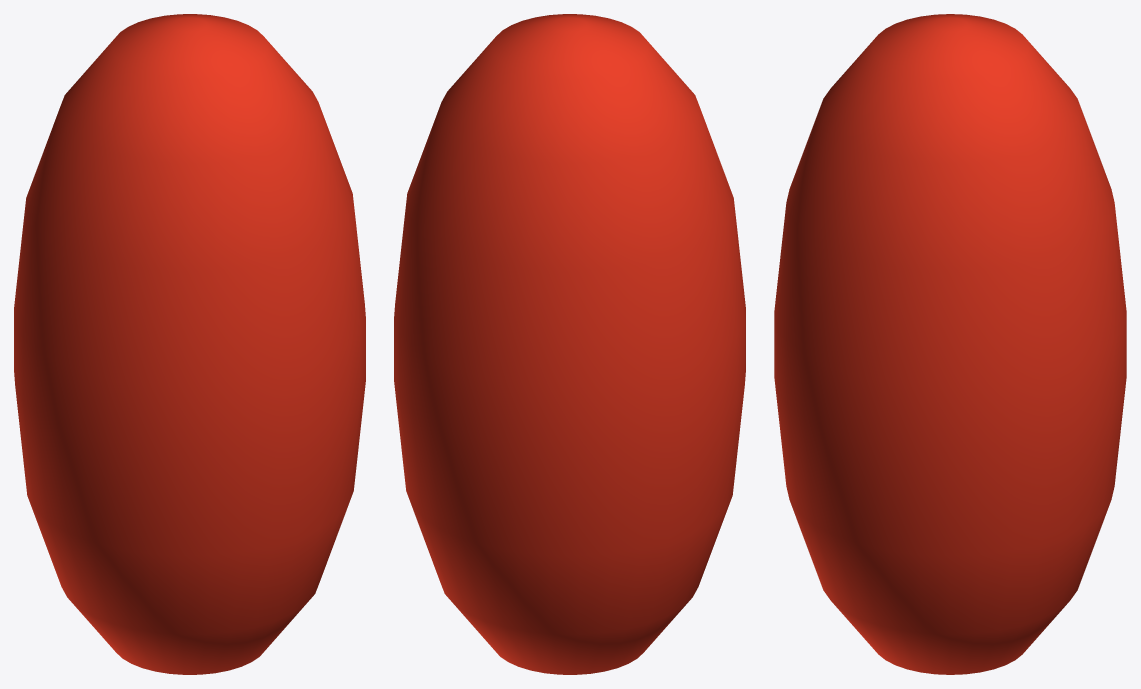
File: test_unit.glb
The picture shows the model from 3 angles, left to right: view 1: azimuth 30°, elevation 25°; view 2: azimuth 150°, elevation 25°; view 3: azimuth 270°, elevation 25°; orthographic projection.
Parts seen in each view (by area): view 1: Cylinder; view 2: Cylinder; view 3: Cylinder.
Boxes of the visible parts, x1,y1,x2,y2 form: Cylinder: [14, 14, 365, 674]; Cylinder: [394, 14, 745, 674]; Cylinder: [774, 14, 1126, 674].
Bounding box in the file's own units: 1 × 2 × 1.
